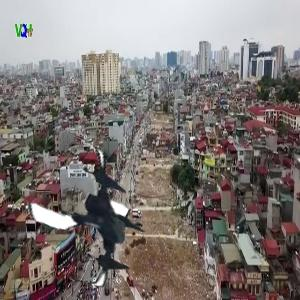drone: (12, 140, 159, 287)
